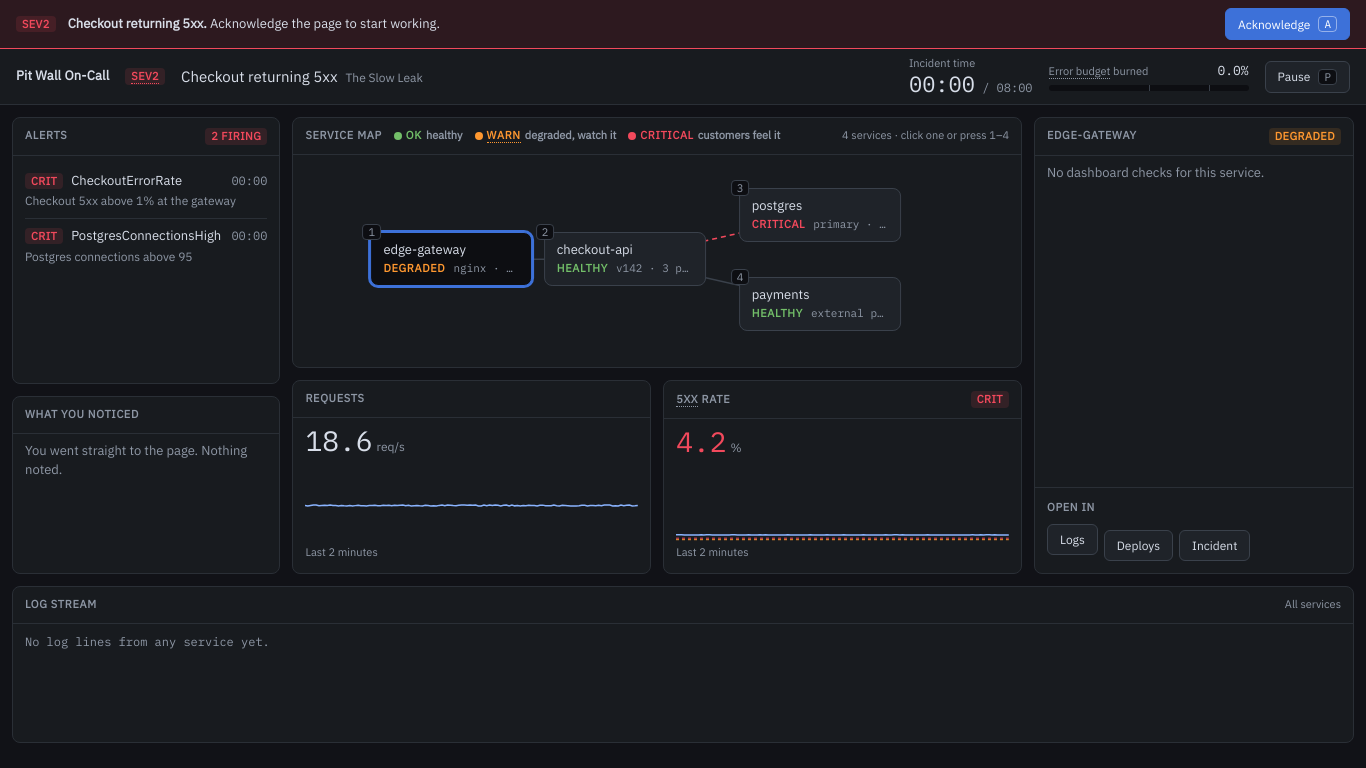
MonitoringApp › while paging, shows the console with actions locked until the ack
The image size is (1366, 768).
Expected: the message shows "Acknowledge the page", [207,15,440,32]
Expected: the element "Alerts" is shown, [12,117,280,384]
Click the button "checkout-api Healthy v142 · 3 pods 2": (625, 259) [544,232,706,286]
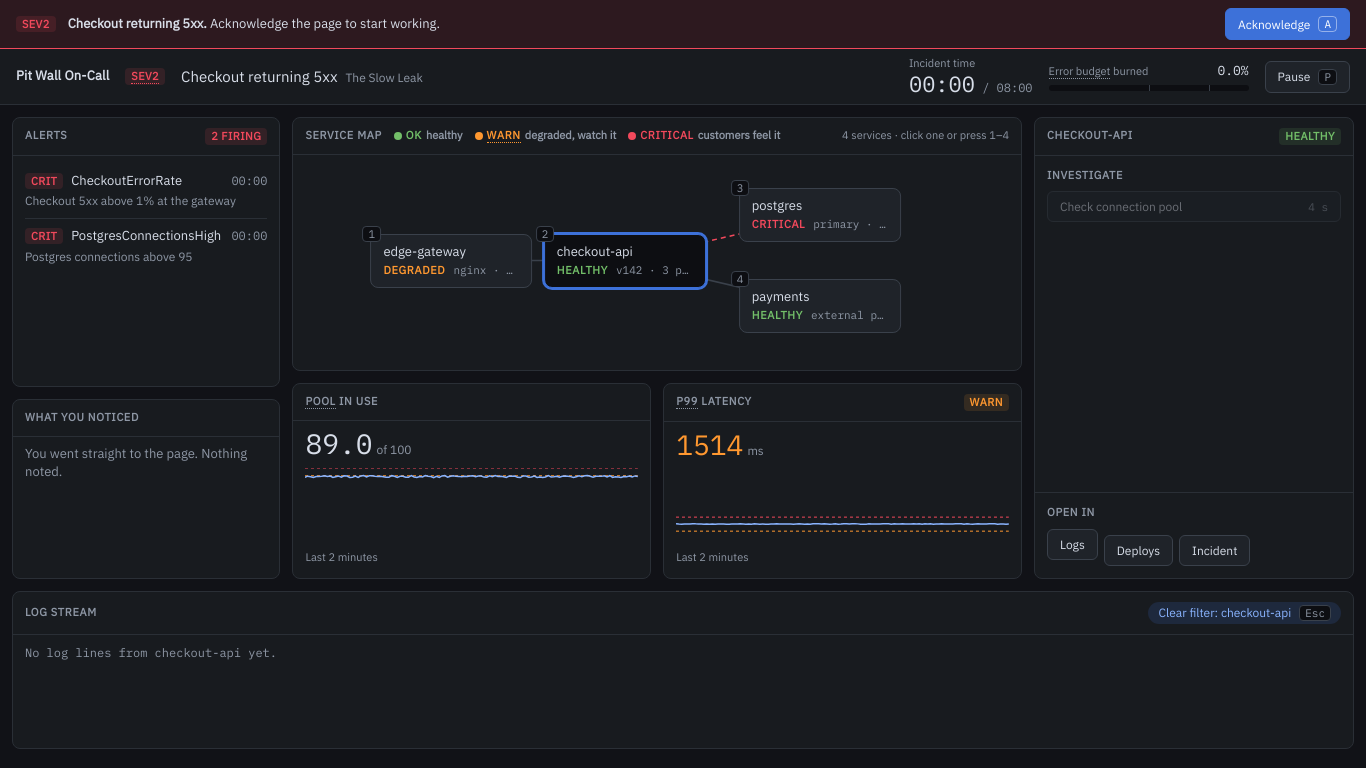
Expected: the button "Check connection pool 4 s" is disabled, [1047,191,1341,222]
Click the button "Acknowledge A": (1288, 24) [1225,8,1350,40]
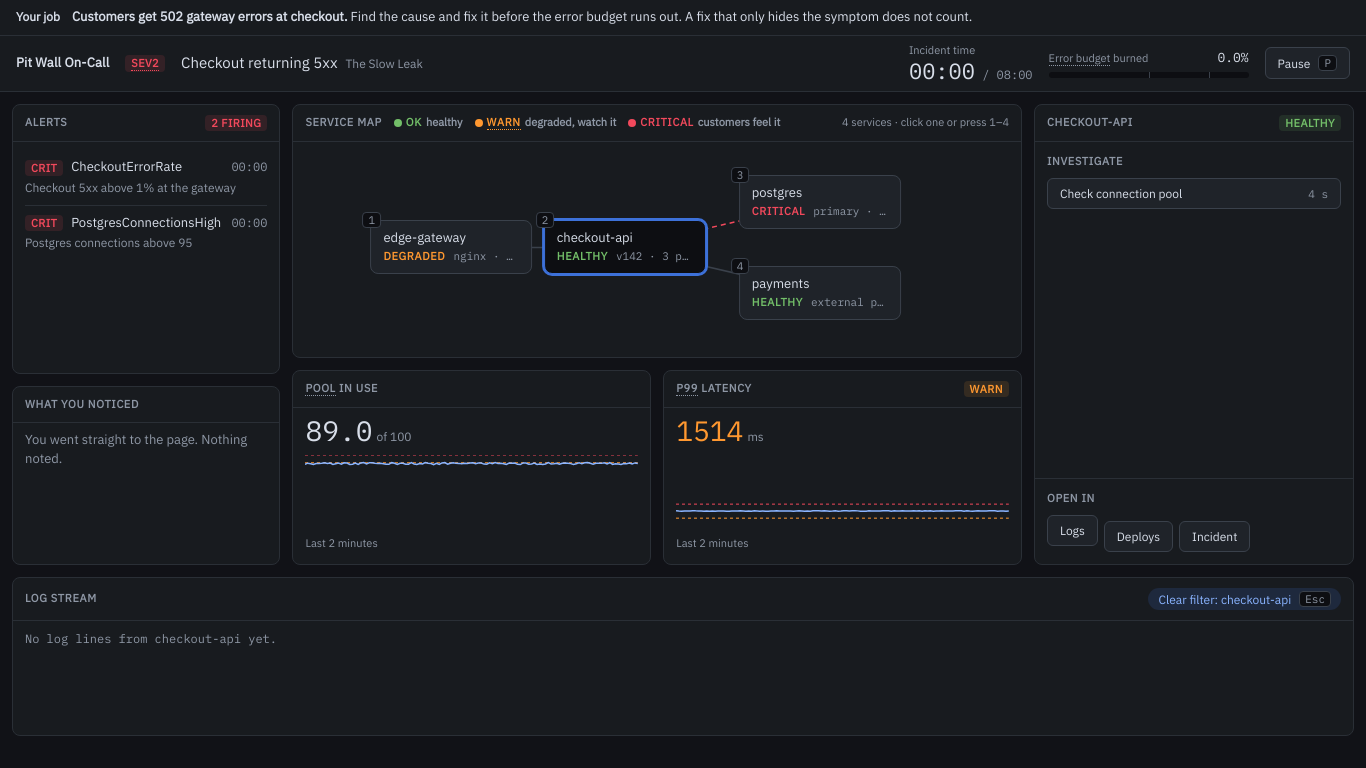
Expected: the button "Check connection pool 4 s" is enabled, [1047,178,1341,209]
